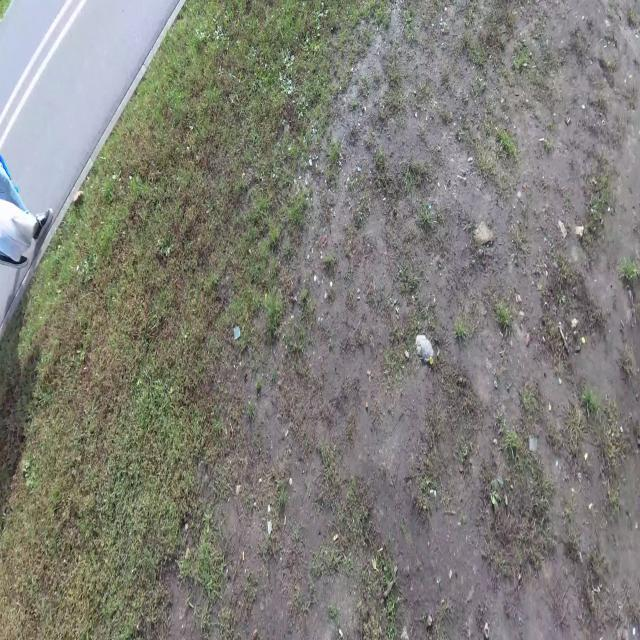rubbish: (416, 335, 436, 364), (234, 324, 240, 340)
